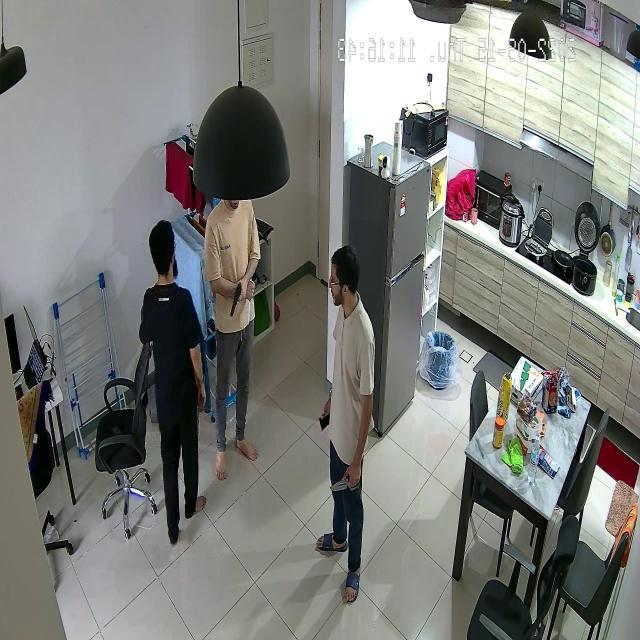Gun: (226, 271, 247, 326)
Knife: (326, 466, 368, 499)
